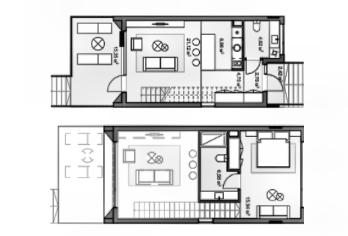door: (263, 72, 284, 93), (106, 74, 129, 93), (221, 172, 243, 190), (245, 56, 262, 76)
window: (118, 46, 128, 73), (279, 22, 286, 56), (197, 217, 215, 225), (200, 101, 217, 109)
